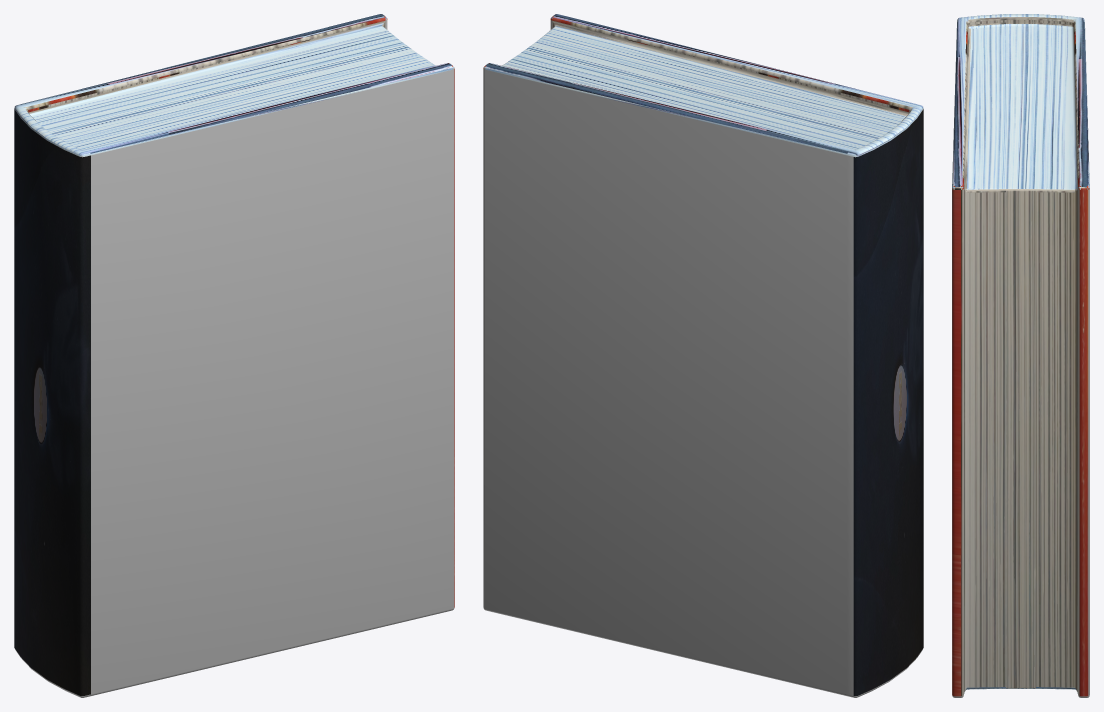
The model's file is KubrikDither.fbx.
The picture shows the model from 3 angles, left to right: view 1: azimuth 30°, elevation 25°; view 2: azimuth 150°, elevation 25°; view 3: azimuth 270°, elevation 25°; orthographic projection. The views are drawn at different scales.
Parts seen in each view (by area): view 1: Cube; view 2: Cube; view 3: Cube.
Part boxes in pixels (bbox=[...]): Cube: bbox=[14, 14, 454, 697]; Cube: bbox=[483, 14, 923, 697]; Cube: bbox=[952, 14, 1089, 697].
Size of the model in its own units: 45.81 by 62.79 by 15.33.
